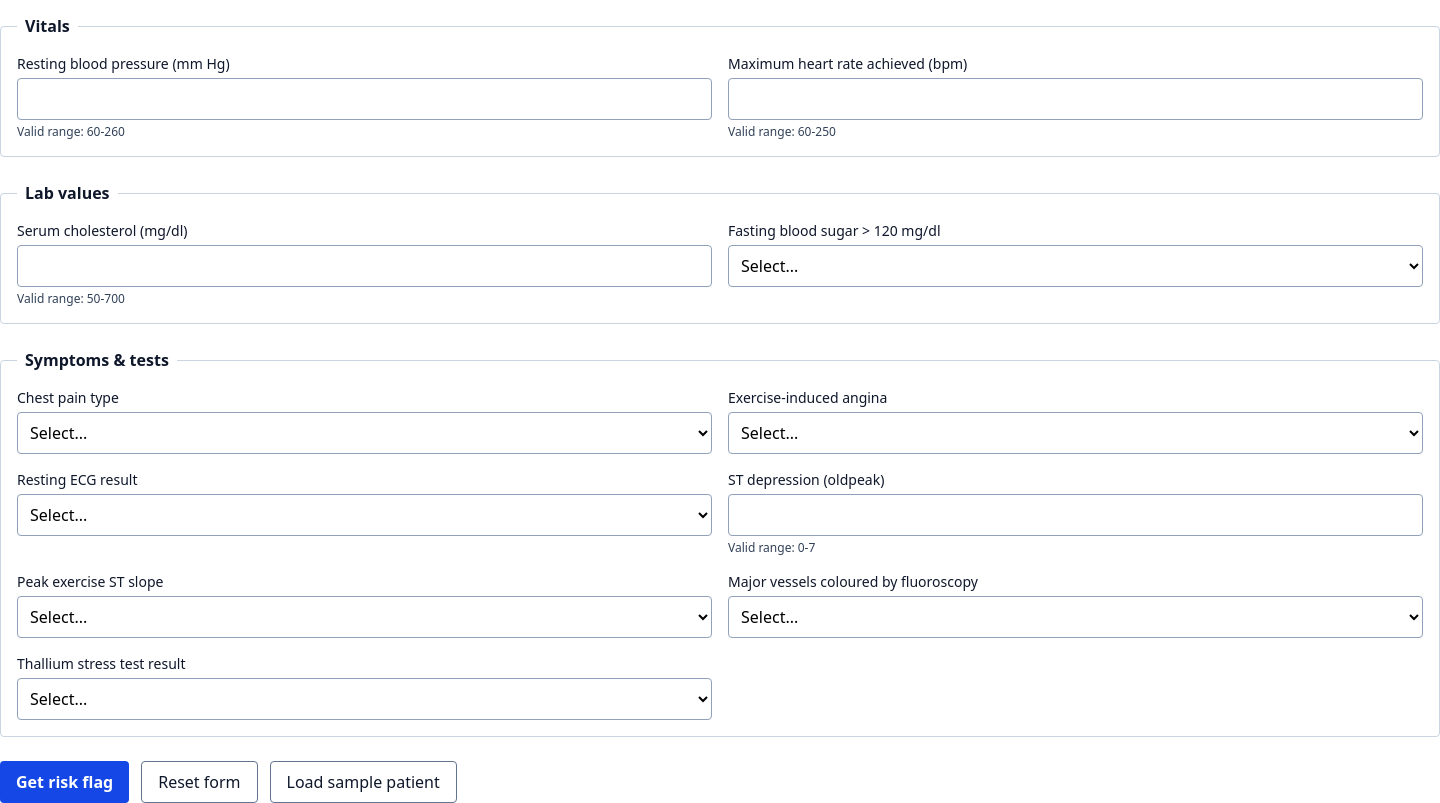
Scenario: ScorePage › submits the sample patient and renders the result
(page scrolled)
Click the button "Load sample patient" at [363, 782], box [270,761,457,802]
(page scrolled)
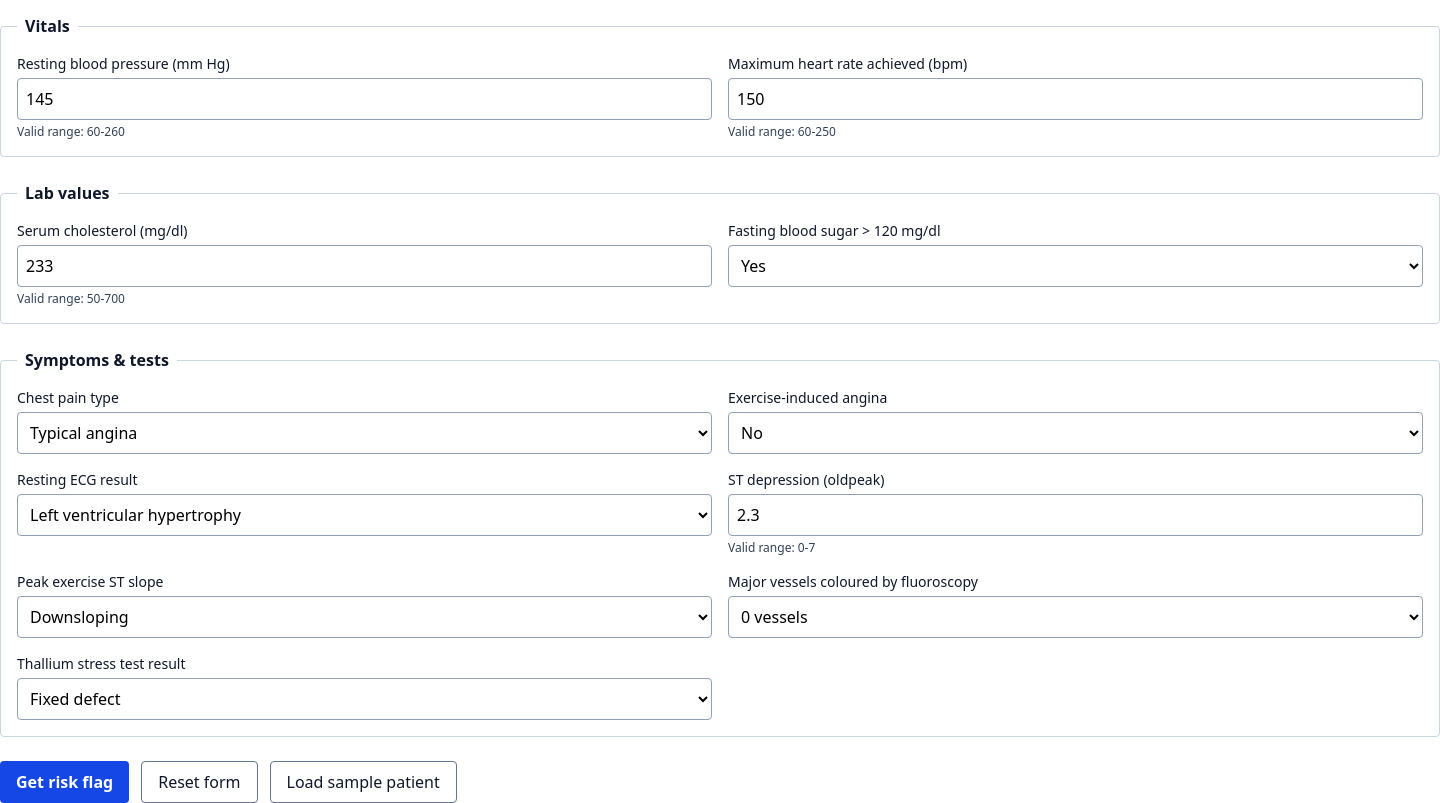
Click the button "Get risk flag" at [65, 782], box [0,761,129,802]
(page scrolled)
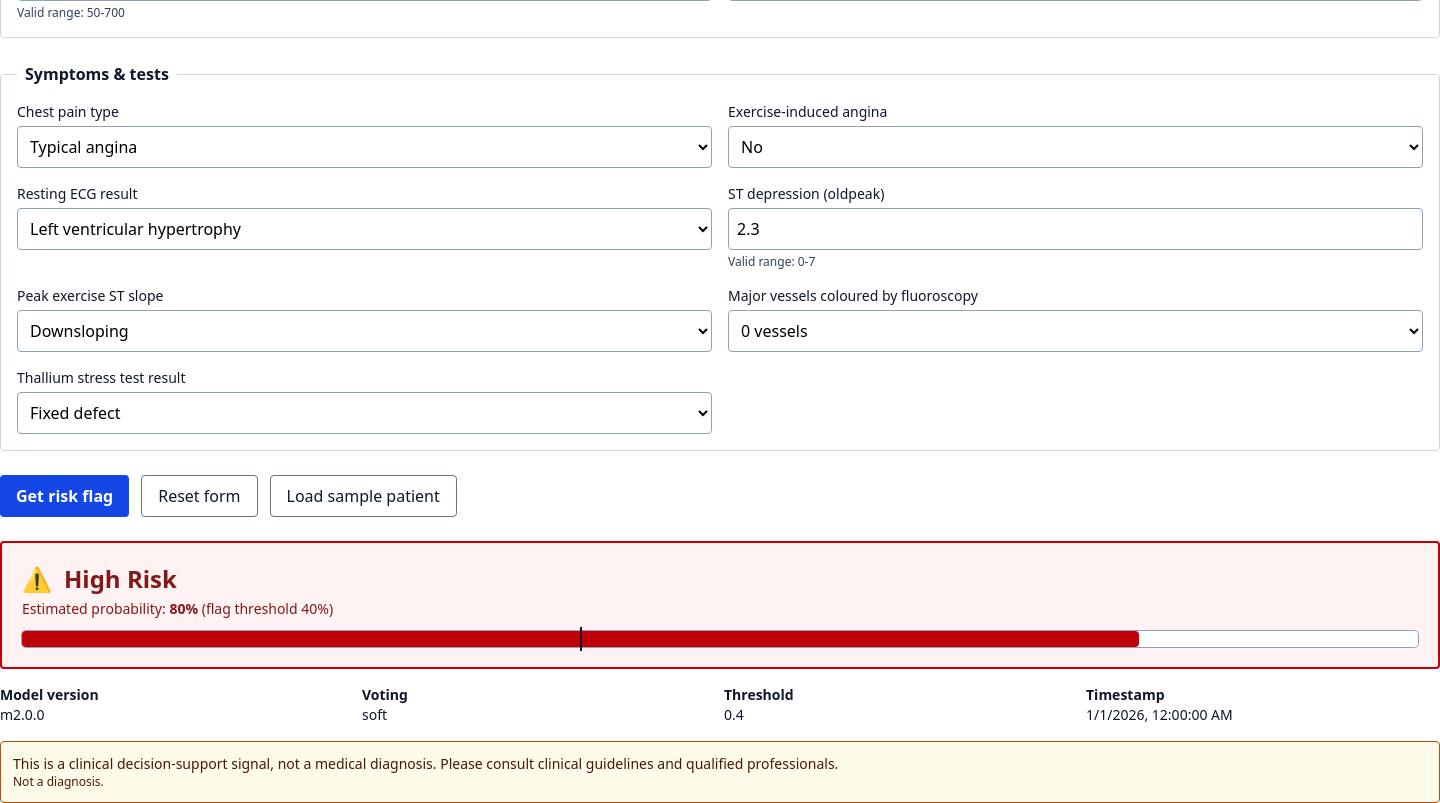
Result: the text "High Risk" is shown at [64,563,177,595]
